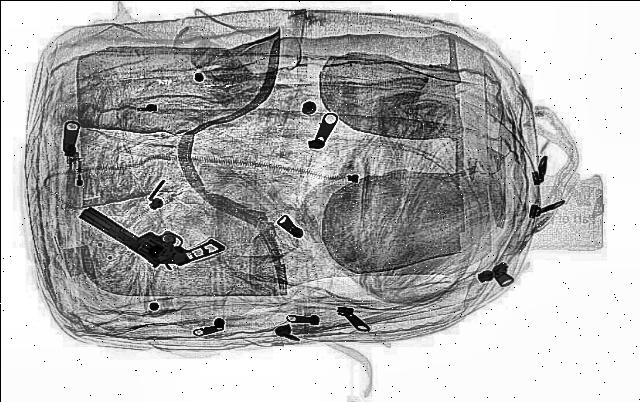Gun: (74, 185, 226, 275)
